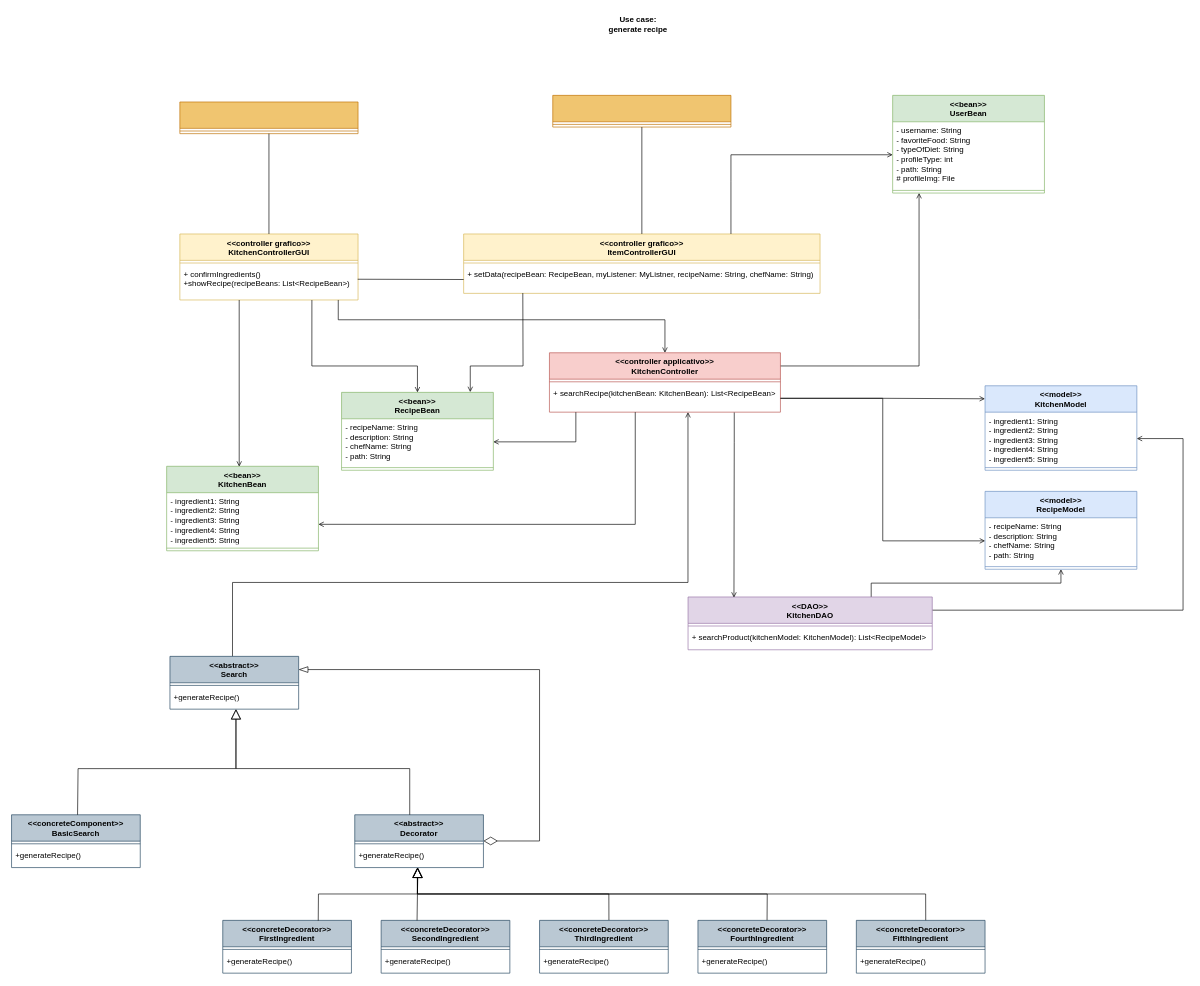
Some shapes in this 1200 by 986 pixel diagram are drawn without their labels. Here are the shapes that lost their labels. From the top down, the centre of each, then its label:
point (268, 117): <<view>> Kitchen
point (641, 111): <<view>> Item
